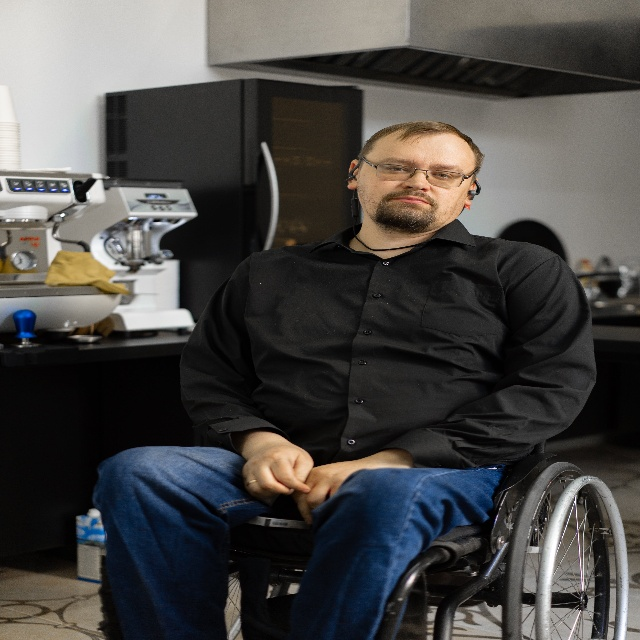Gafas: (360, 154, 479, 192)
Sin_guantes: (242, 437, 315, 498), (295, 457, 355, 525)
